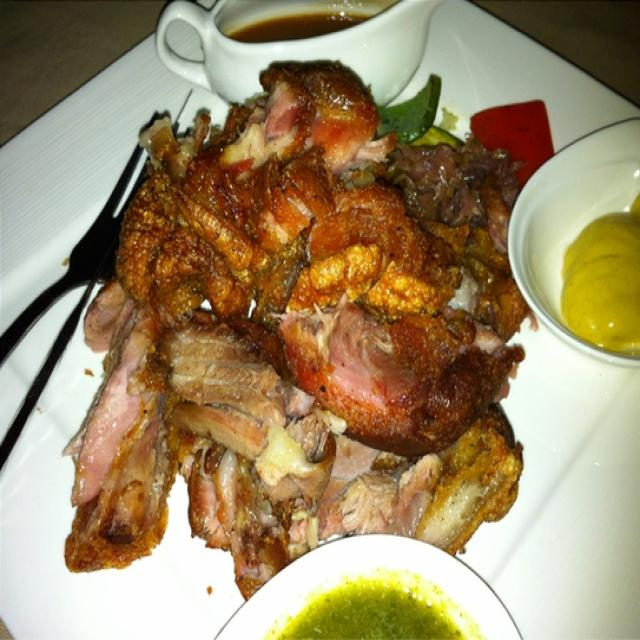猪肉菜式: (36, 39, 604, 597)
